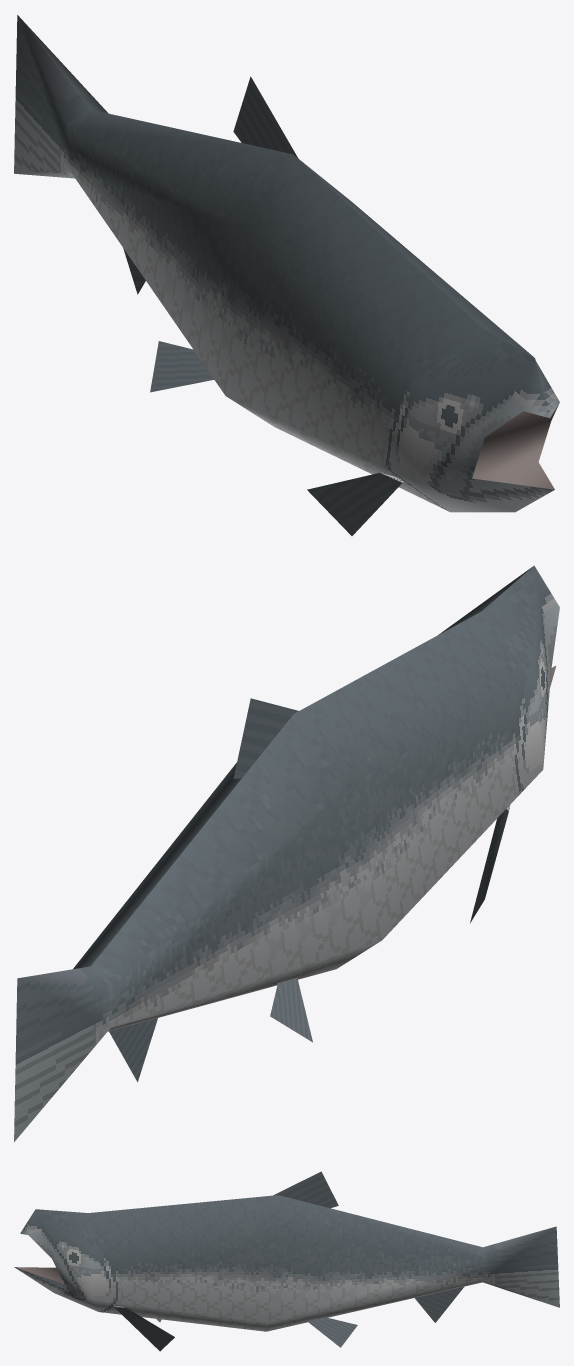
Rendered from 01dc_Salmon.glb.
The picture shows the model from 3 angles, top to bottom: view 1: azimuth 30°, elevation 25°; view 2: azimuth 150°, elevation 25°; view 3: azimuth 270°, elevation 25°; orthographic projection. The views are drawn at different scales.
Visible parts, largest first — view 1: part_0; view 2: part_0; view 3: part_0.
Boxes of the visible parts, x1,y1,x2,y2 form: part_0: [14, 15, 559, 535]; part_0: [14, 565, 559, 1141]; part_0: [14, 1171, 559, 1351].
Size of the model in its own units: 0.1388 by 0.2451 by 0.7319.
1 material, 1 textured.
